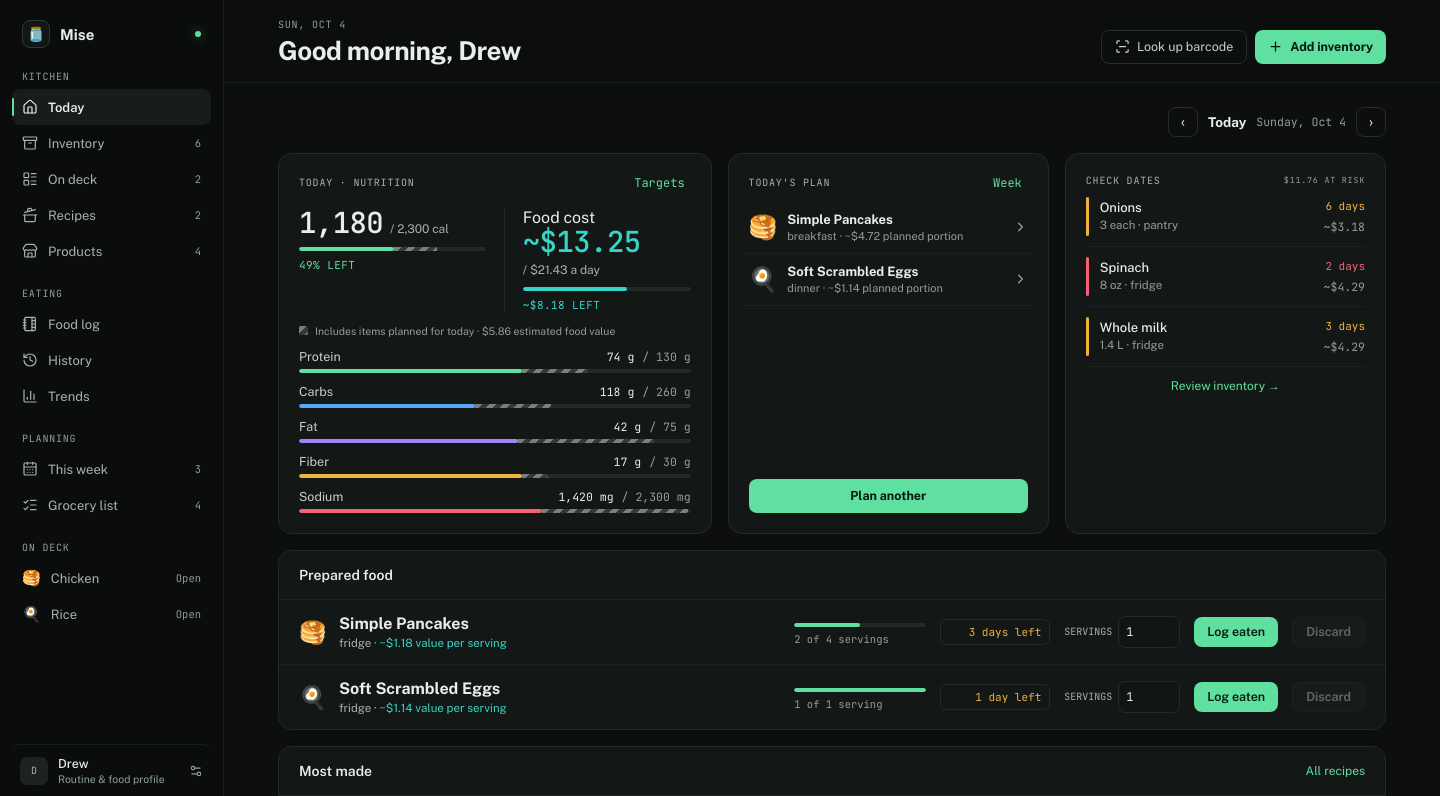
Scenario: unlocks a rejected save for correction without leaving a stale retry on remount
Click the button "Recipes 2" at coordinates (112, 215), box [12,197,211,233]
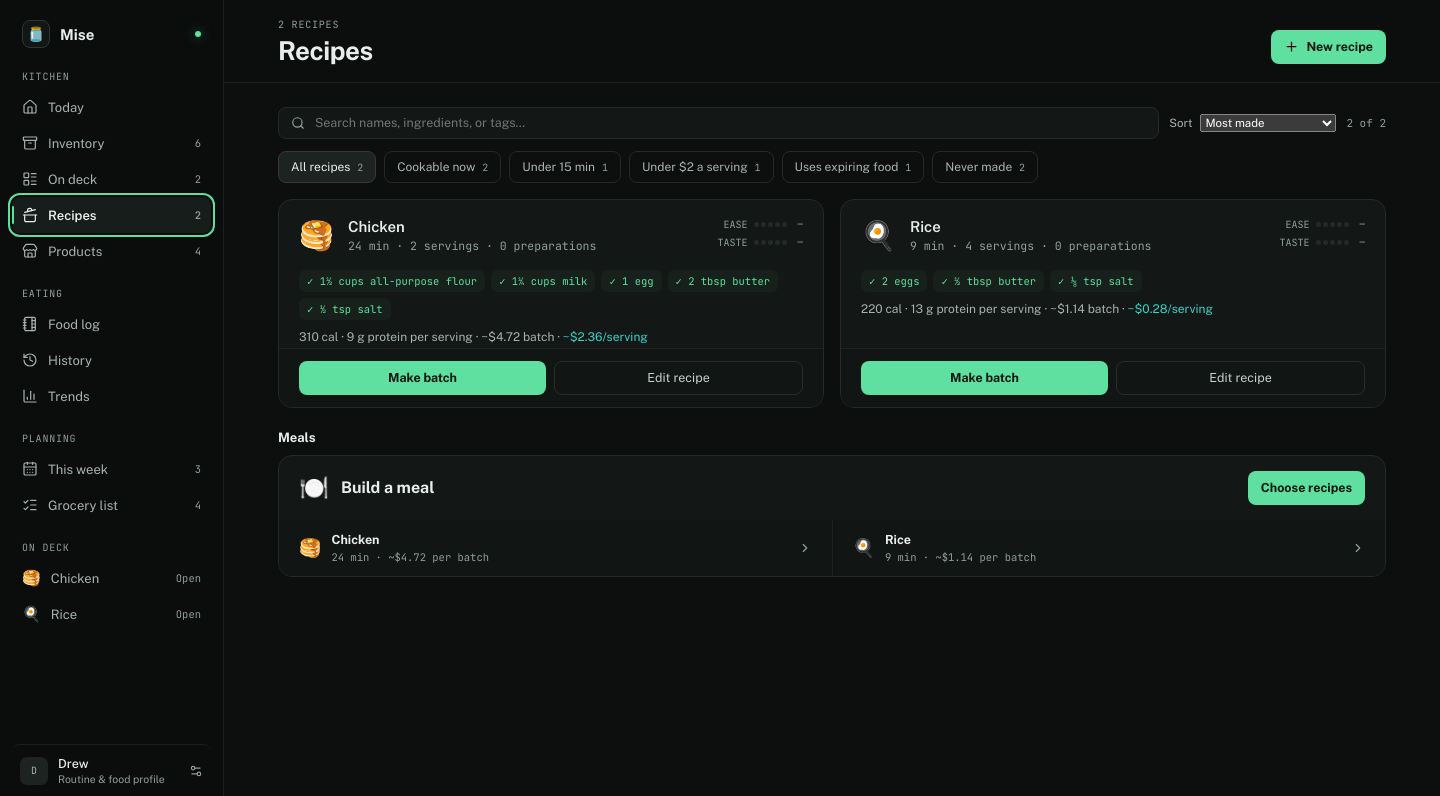
Click the button "Choose recipes" at coordinates (1306, 488), box [1248,471,1365,505]
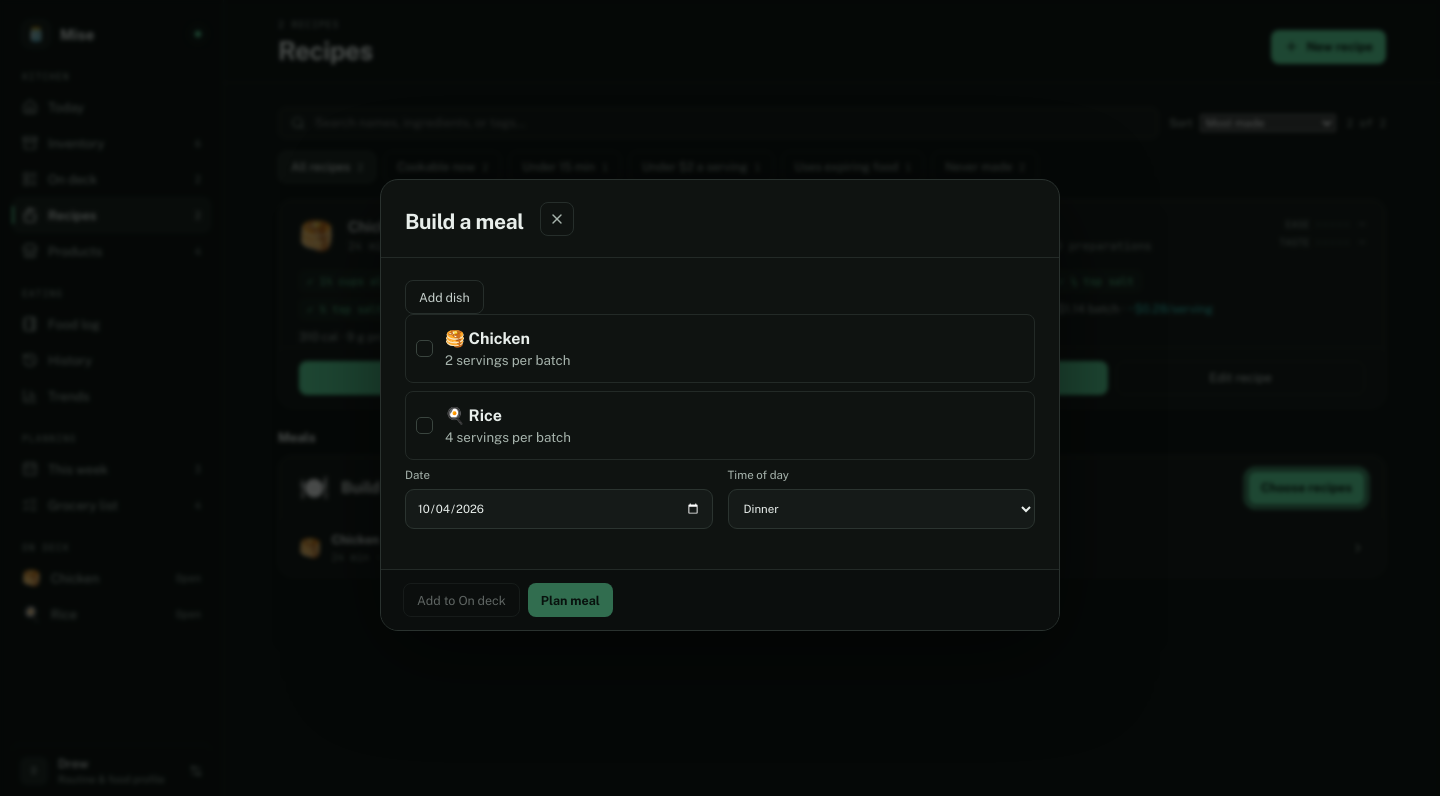
Result: the button "🥞 Chicken 2 servings per batch" is enabled
Click the button "🥞 Chicken 2 servings per batch" at coordinates (499, 338), box [405,314,1035,383]
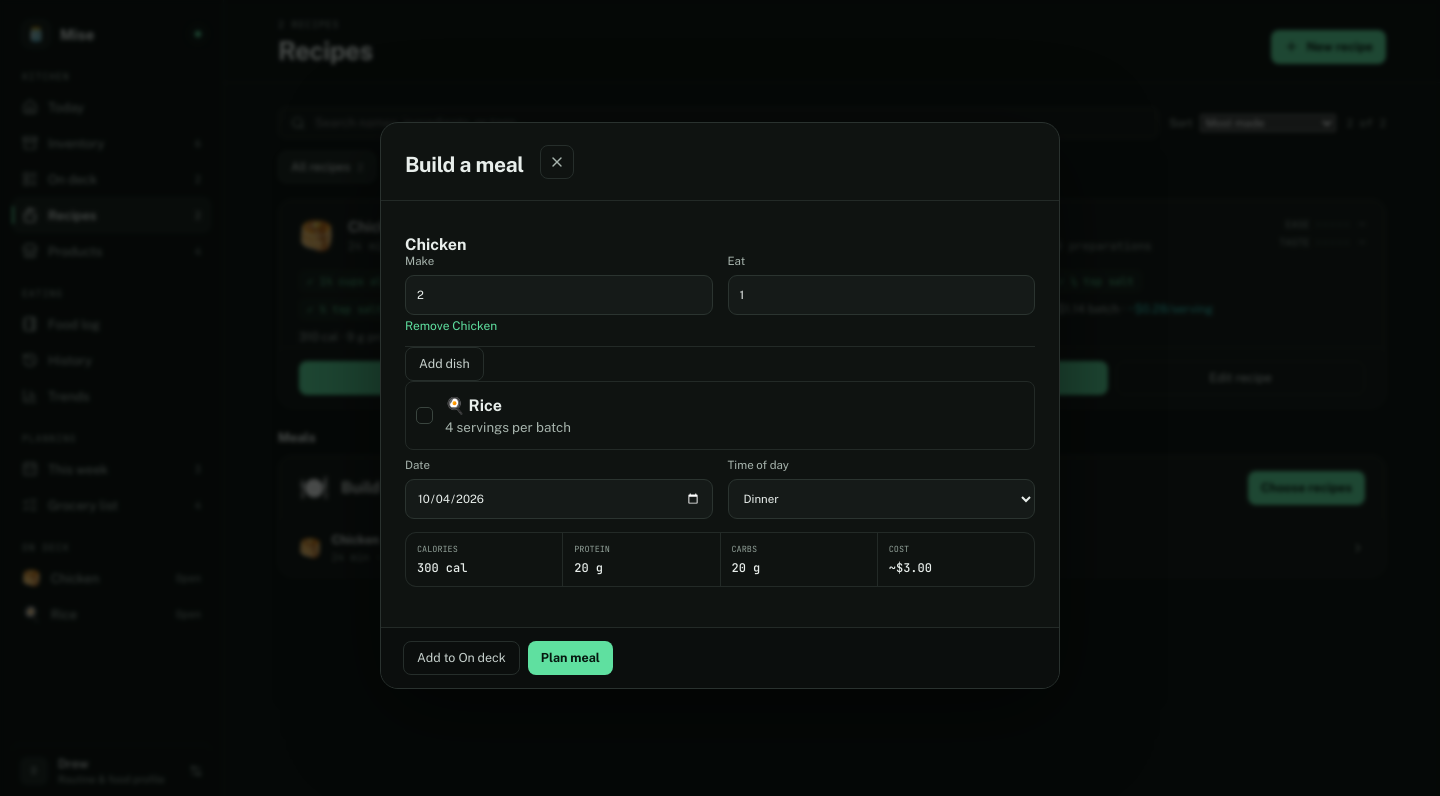
Replace the text in the number field named "Make servings of Chicken" with "0" at coordinates (559, 294), box [405,274,712,314]
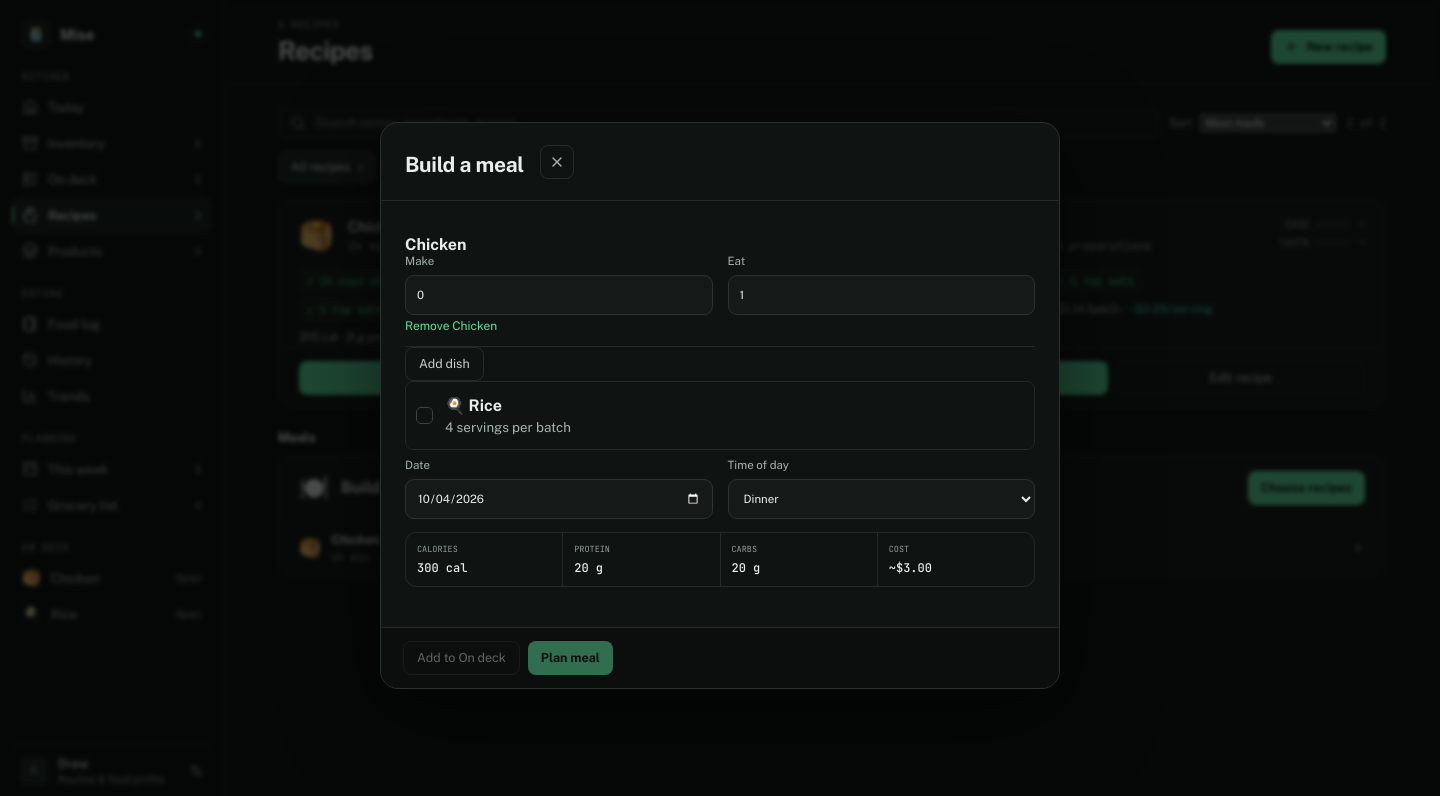
Result: the button "Plan meal" is disabled at [528,640,613,674]
Replace the text in the number field named "Make servings of Chicken" with "2" at coordinates (559, 294), box [405,274,712,314]
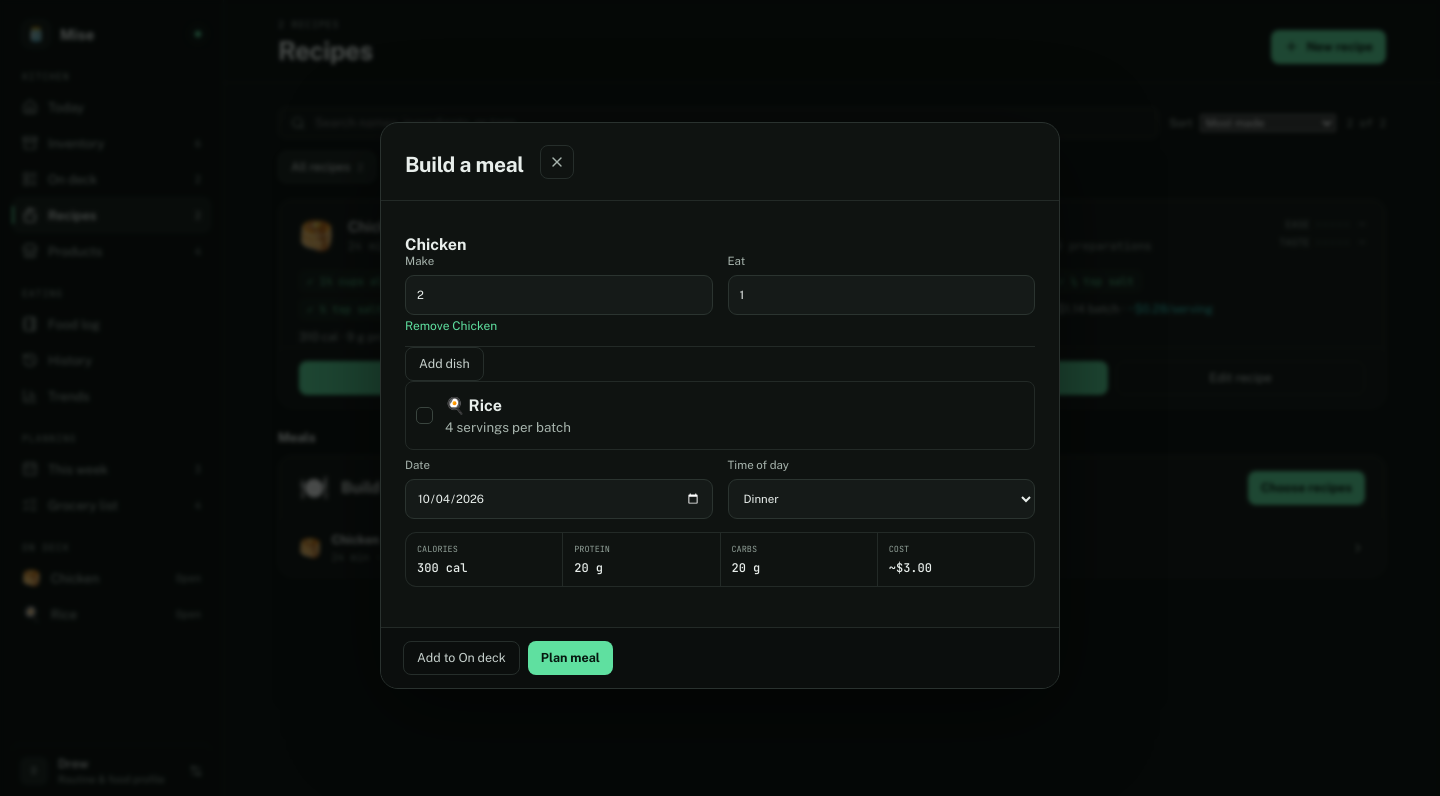
Click the button "Plan meal" at coordinates (570, 658), box [528,640,613,674]
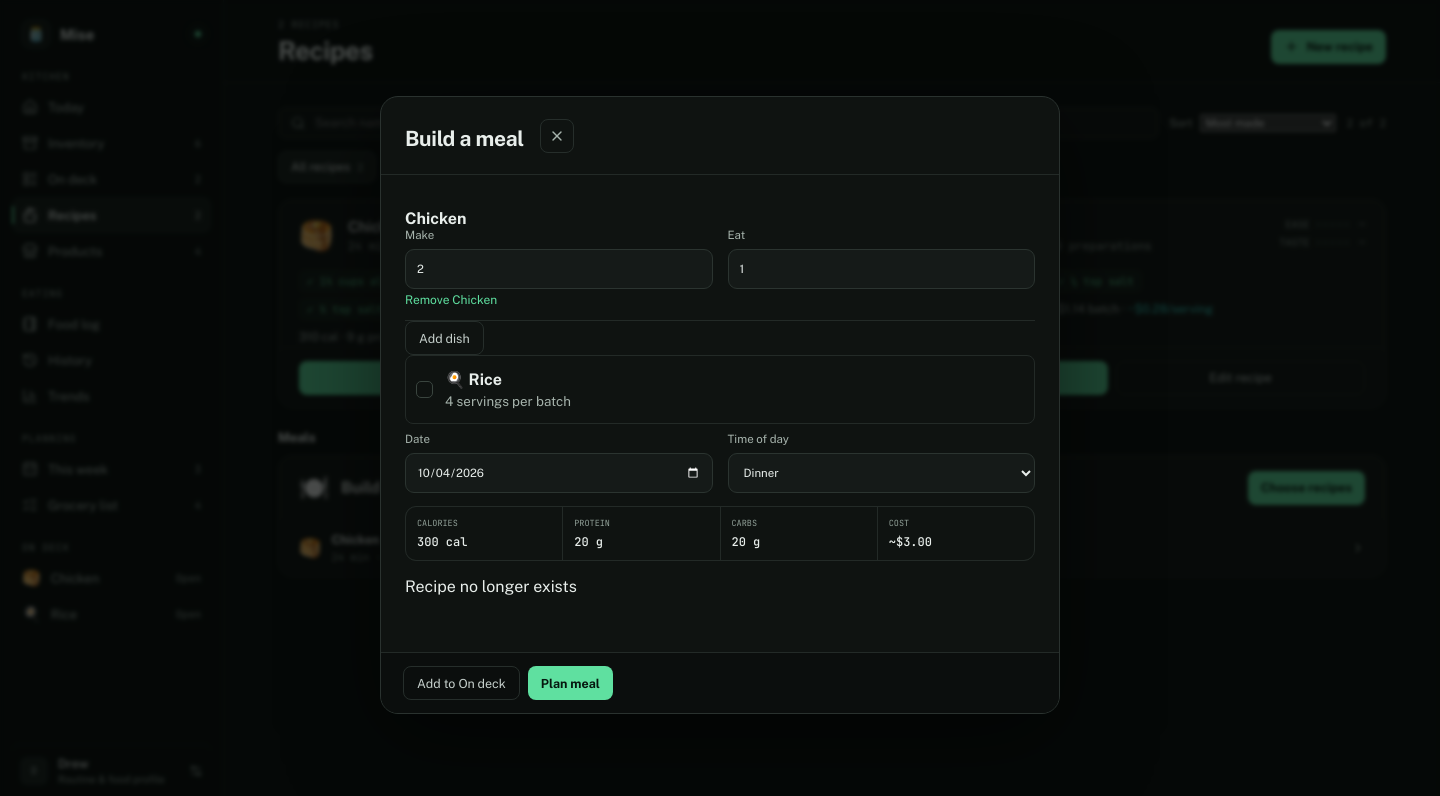
Result: the number field named "Make servings of Chicken" is enabled at [405,249,712,289]
Result: the button "Plan meal" is enabled at [528,666,613,700]
Result: the message reads "Recipe no longer exists" at [405,577,577,596]
